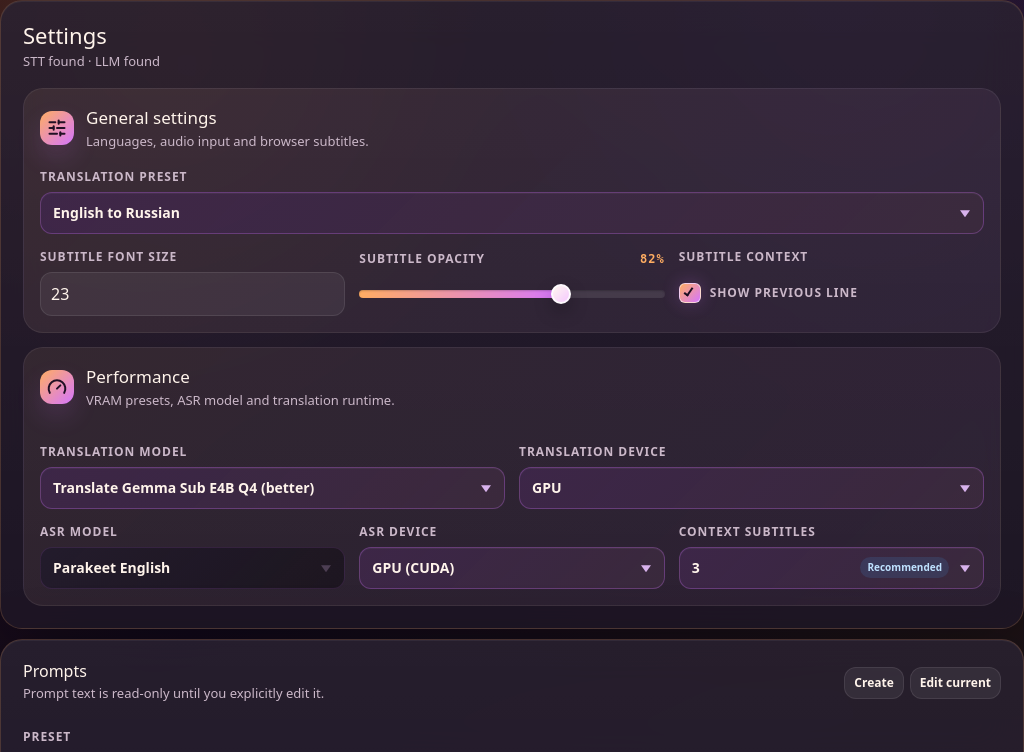
Test: SettingsPage › keeps CUDA available when reported by STT capabilities
The width and height of the screenshot is (1024, 752).
Click the button with aria-label "ASR device: GPU (CUDA)" at (413, 568), box 359,547 -> 665,589
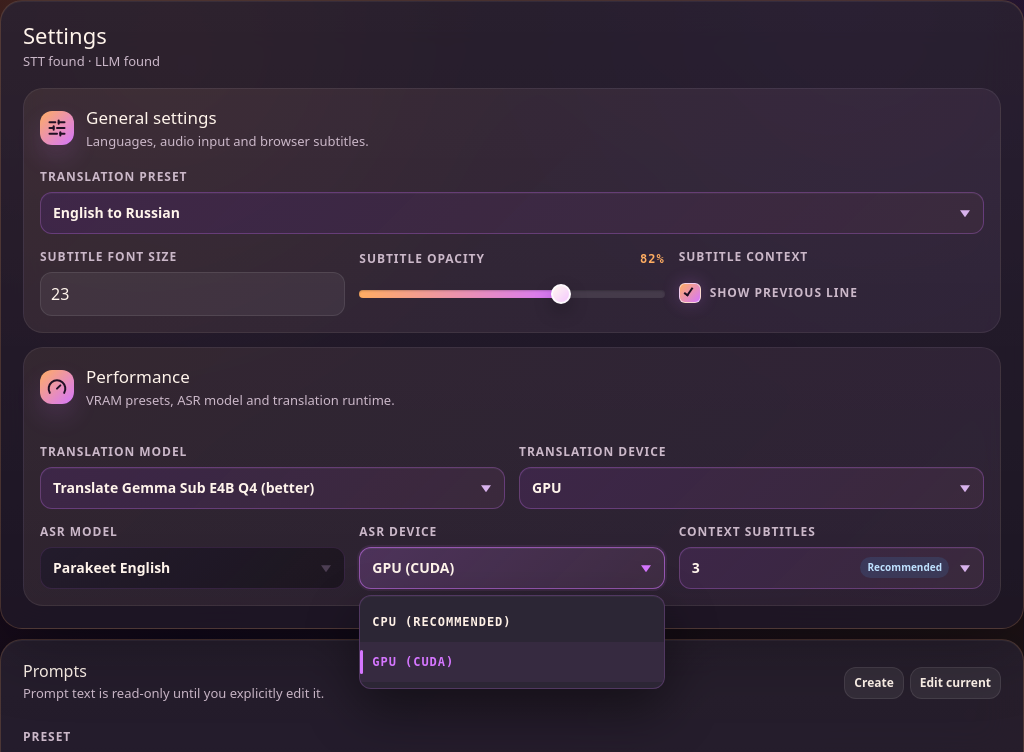
Expected: the option "GPU (CUDA)" is shown, 360,642 -> 664,682
